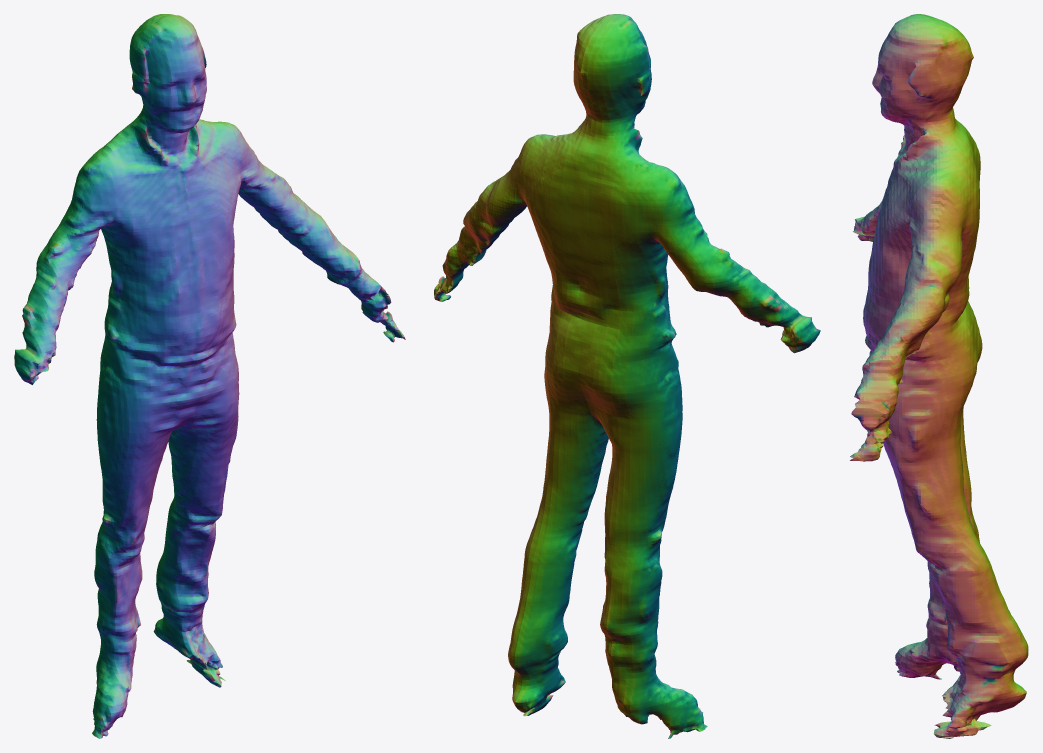
Rendered from manopen.obj.
3 views of the same model, side by side, from view 1: azimuth 30°, elevation 25°; view 2: azimuth 150°, elevation 25°; view 3: azimuth 270°, elevation 25° (orthographic).
Size of the model in its own units: 1.07 by 1.88 by 0.4404.
